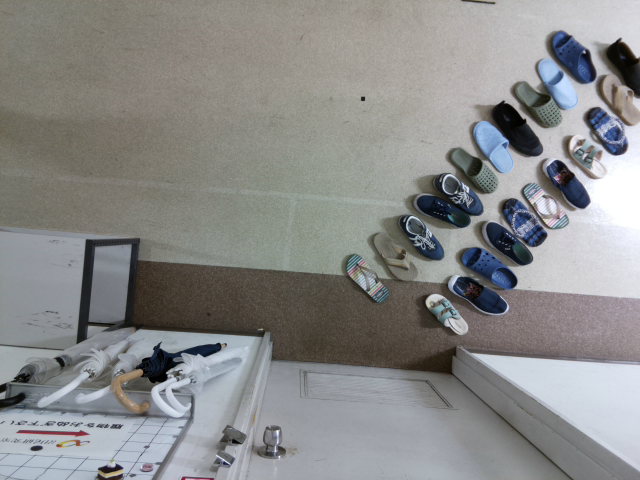Copy of Copy of Copy of Copy of Copy of Copy of Copy of shoes: (606, 37, 640, 97)
Copy of Copy of Copy of Copy of Copy of Copy of sandal: (424, 294, 468, 335)
Copy of Copy of Copy of Copy of Copy of Copy of shoes: (491, 101, 543, 156)
Copy of Copy of Copy of Copy of Copy of sandal: (501, 196, 547, 247)
Copy of Copy of Copy of Copy of Copy of shoes: (412, 192, 471, 227)
Copy of Copy of Copy of Copy of sandal: (523, 181, 569, 229)
Copy of Copy of Copy of Copy of shoes: (431, 172, 484, 216)
Copy of Copy of Copy of Copy of slipper: (459, 246, 517, 289)
Copy of Copy of Copy of sandal: (567, 133, 606, 180)
Copy of Copy of Copy of shoes: (399, 213, 445, 260)
Copy of Copy of Copy of slipper: (536, 58, 577, 110)
Copy of Copy of sandal: (587, 106, 628, 156)
Copy of Copy of shoes: (542, 157, 592, 210)
Copy of Copy of slipper: (512, 81, 562, 127)
Copy of sandal: (601, 73, 640, 126)
Copy of shoes: (481, 219, 533, 266)
Copy of slipper: (472, 121, 513, 173)
sandal: (345, 253, 390, 304), (372, 232, 417, 282)
shoes: (447, 274, 509, 315)
slipper: (549, 30, 598, 83), (448, 147, 499, 193)
